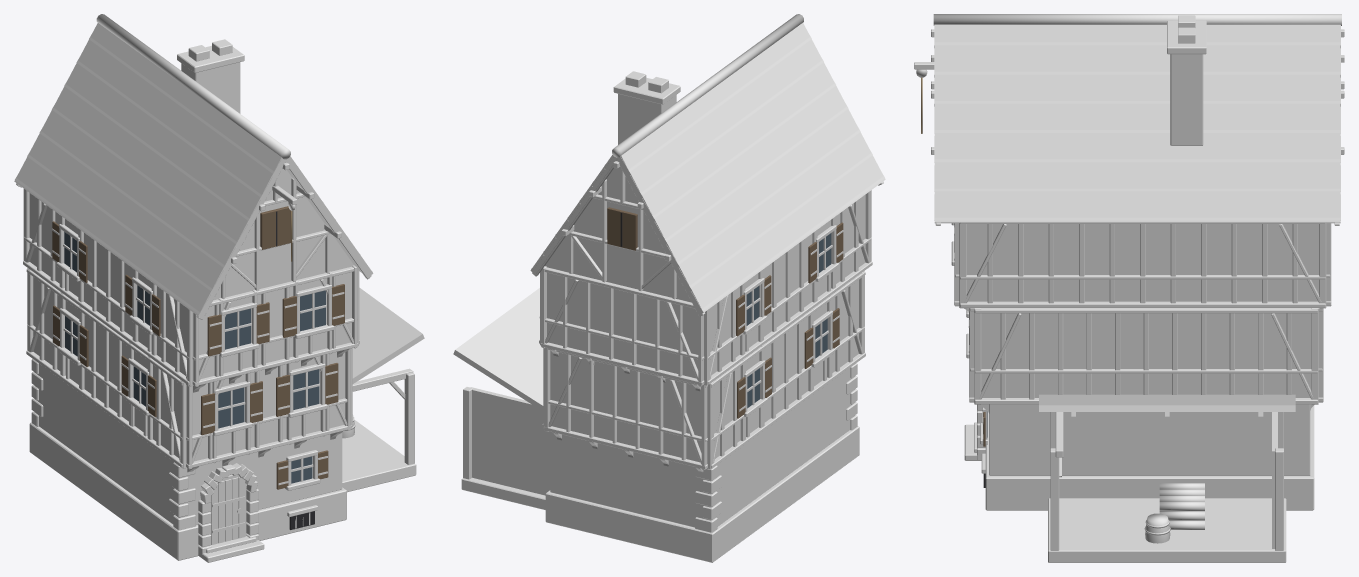
File: ville_17_pignon_bucher_appentis.fbx
The picture shows the model from 3 angles, left to right: view 1: azimuth 30°, elevation 25°; view 2: azimuth 150°, elevation 25°; view 3: azimuth 270°, elevation 25°; orthographic projection. The views are drawn at different scales.
Visible parts, largest first — view 1: ville_17_pignon_bucher_appentis_LOD0; view 2: ville_17_pignon_bucher_appentis_LOD0; view 3: ville_17_pignon_bucher_appentis_LOD0.
Part boxes in pixels (x1,y1,x2,y2): ville_17_pignon_bucher_appentis_LOD0: (14,14,424,562); ville_17_pignon_bucher_appentis_LOD0: (453,14,885,562); ville_17_pignon_bucher_appentis_LOD0: (914,14,1344,562).
Size of what is drawn, in the model's own units: 8.06 by 11.74 by 9.92.
